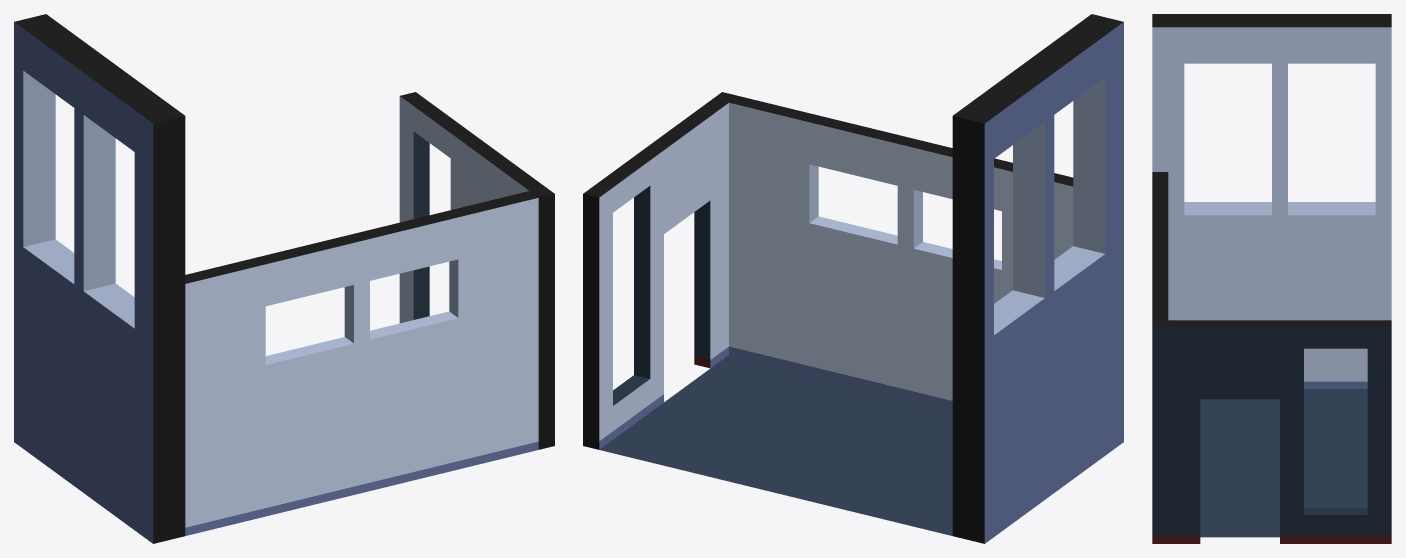
File: left_row_office_template.fbx
3 views of the same model, side by side, from view 1: azimuth 30°, elevation 25°; view 2: azimuth 150°, elevation 25°; view 3: azimuth 270°, elevation 25° (orthographic). The views are drawn at different scales.
Parts seen in each view (by area): view 1: office_left_wall, office_ext_wall, office_front_door; view 2: office_ext_wall, office_left_wall, office_floor, office_front_door; view 3: office_ext_wall, office_front_door, office_floor, office_left_wall.
Part boxes in pixels (x1,y1,x2,y2): office_left_wall: (185,191,538,535); office_ext_wall: (14,14,185,543); office_front_door: (399,92,554,449); office_ext_wall: (952,14,1123,543); office_left_wall: (729,96,1073,409); office_floor: (599,355,952,535); office_front_door: (583,92,737,449); office_ext_wall: (1152,14,1391,388); office_front_door: (1152,320,1391,543); office_floor: (1200,389,1367,537); office_left_wall: (1152,172,1168,320).
Size of the model in its own units: 5 by 3 by 5.
